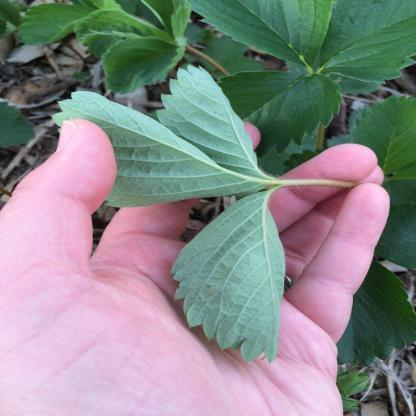Strawberry leaf: (51, 68, 271, 199), (173, 188, 302, 366), (151, 60, 292, 183)
